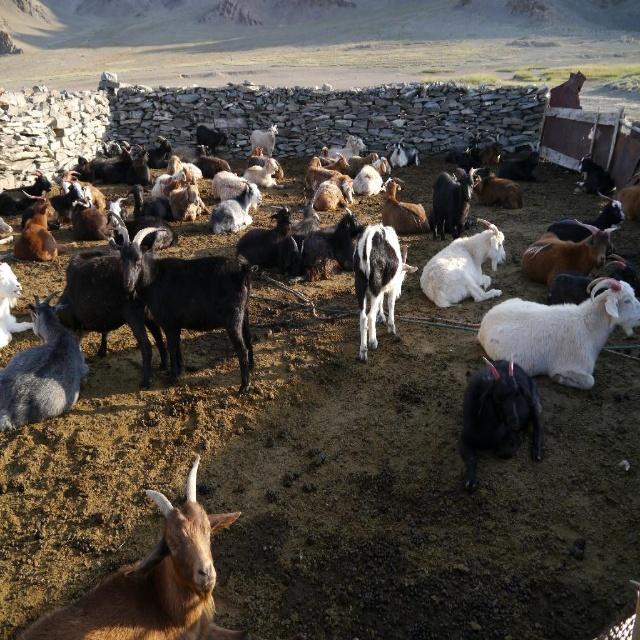Goat: (0, 124, 640, 640)
